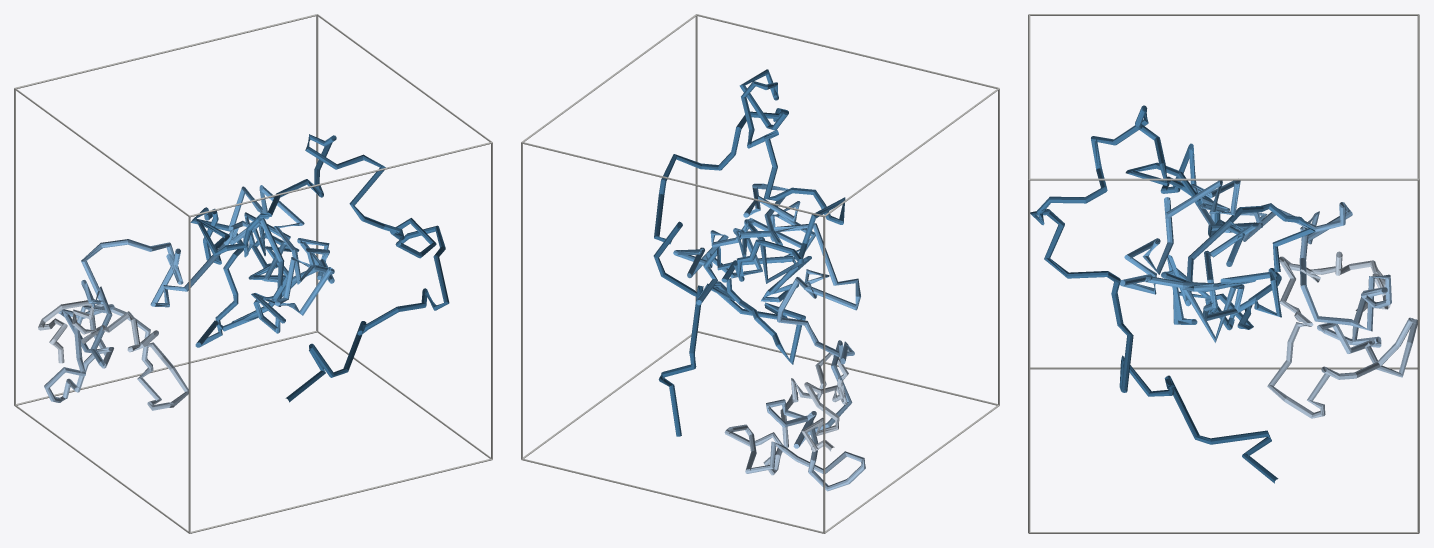
3 renders of one model, left to right at view 1: azimuth 30°, elevation 25°; view 2: azimuth 150°, elevation 25°; view 3: azimuth 270°, elevation 25°, orthographic. The views are drawn at different scales.
Visible parts, largest first — view 1: geometry_0, geometry_1; view 2: geometry_0, geometry_1; view 3: geometry_0, geometry_1.
Part boxes in pixels (bbox=[...]): geometry_0: bbox=[38, 134, 449, 410]; geometry_1: bbox=[14, 14, 492, 533]; geometry_0: bbox=[653, 69, 865, 491]; geometry_1: bbox=[521, 14, 999, 533]; geometry_0: bbox=[1030, 105, 1417, 483]; geometry_1: bbox=[1028, 14, 1419, 533].
Size of the model in its own units: 0.3016 by 0.3041 by 0.3016.
